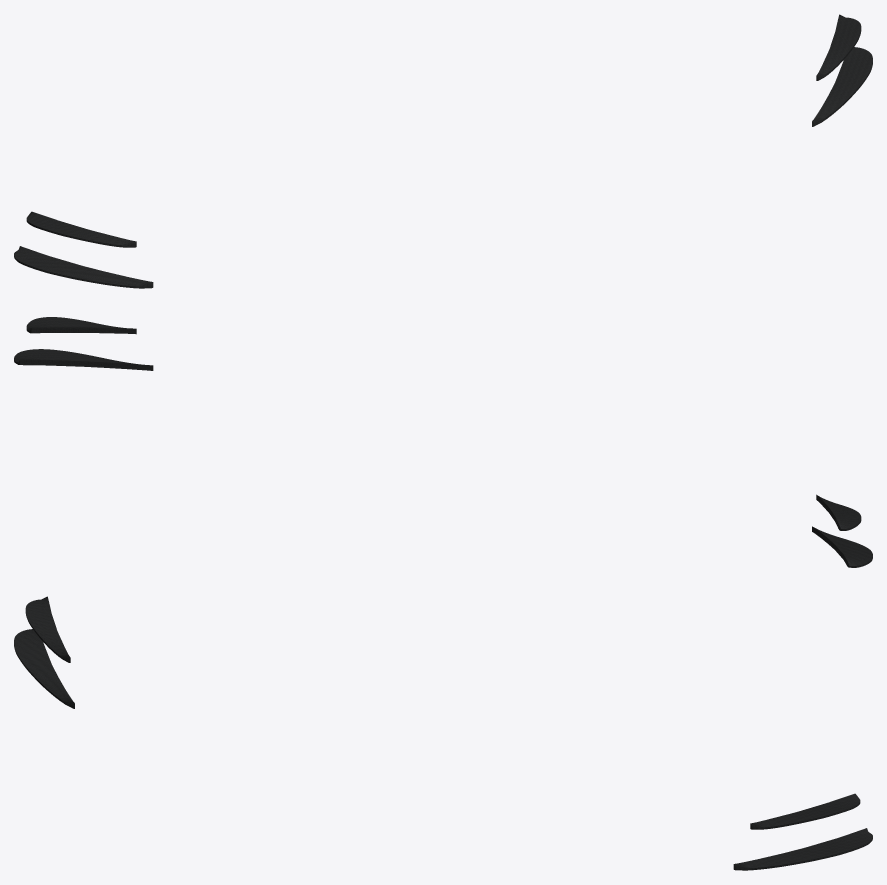
File: FA22_stacked_canards.glb
The picture shows the model from 3 angles, top to bottom: view 1: azimuth 30°, elevation 25°; view 2: azimuth 150°, elevation 25°; view 3: azimuth 330°, elevation 25°; orthographic projection.
Parts seen in each view (by area): view 1: MOD_ND_FA22_dive_plane_neg1_0, MOD_ND_FA22_dive_plane_1_0, MOD_ND_FA22_dive_plane_neg1_1, MOD_ND_FA22_dive_plane_1_1; view 2: MOD_ND_FA22_dive_plane_1_0, MOD_ND_FA22_dive_plane_1_1, MOD_ND_FA22_dive_plane_neg1_0, MOD_ND_FA22_dive_plane_neg1_1; view 3: MOD_ND_FA22_dive_plane_1_0, MOD_ND_FA22_dive_plane_neg1_0, MOD_ND_FA22_dive_plane_1_1, MOD_ND_FA22_dive_plane_neg1_1.
Boxes of the visible parts, <box> form: MOD_ND_FA22_dive_plane_neg1_0: <box>14,246,153,288</box>; MOD_ND_FA22_dive_plane_1_0: <box>812,47,872,126</box>; MOD_ND_FA22_dive_plane_neg1_1: <box>26,211,136,247</box>; MOD_ND_FA22_dive_plane_1_1: <box>816,14,861,80</box>; MOD_ND_FA22_dive_plane_1_0: <box>14,349,153,370</box>; MOD_ND_FA22_dive_plane_1_1: <box>26,317,136,334</box>; MOD_ND_FA22_dive_plane_neg1_0: <box>812,526,872,567</box>; MOD_ND_FA22_dive_plane_neg1_1: <box>816,494,861,530</box>; MOD_ND_FA22_dive_plane_1_0: <box>733,828,872,870</box>; MOD_ND_FA22_dive_plane_neg1_0: <box>14,629,74,708</box>; MOD_ND_FA22_dive_plane_1_1: <box>750,793,860,829</box>; MOD_ND_FA22_dive_plane_neg1_1: <box>25,596,70,662</box>.
Size of the model in its own units: 1.61 by 0.1085 by 0.16.
1 material, 1 textured.
